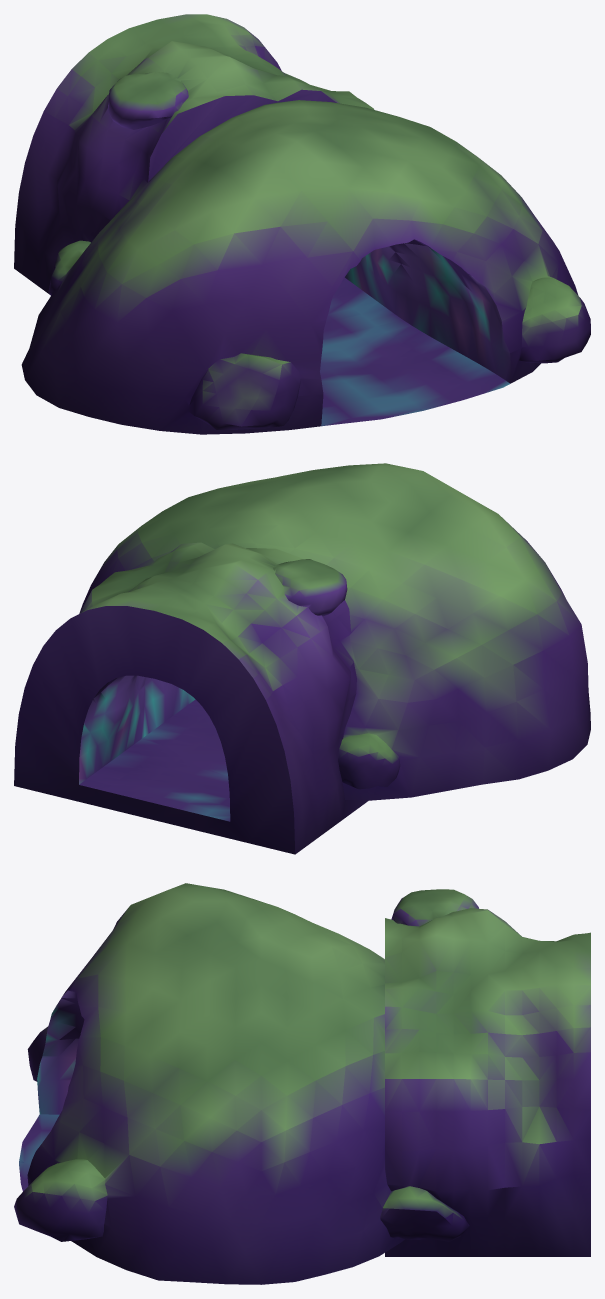
File: hollow_cave_mouth.glb
3 views of the same model, one above another, from view 1: azimuth 30°, elevation 25°; view 2: azimuth 150°, elevation 25°; view 3: azimuth 270°, elevation 25° (orthographic). The views are drawn at different scales.
Parts seen in each view (by area): view 1: hollow_cave_mouth; view 2: hollow_cave_mouth; view 3: hollow_cave_mouth.
Boxes of the visible parts, bbox=[...] form: hollow_cave_mouth: bbox=[14, 14, 590, 434]; hollow_cave_mouth: bbox=[14, 463, 590, 854]; hollow_cave_mouth: bbox=[14, 883, 590, 1284].
Size of the model in its own units: 18.33 by 8.23 by 16.81.
